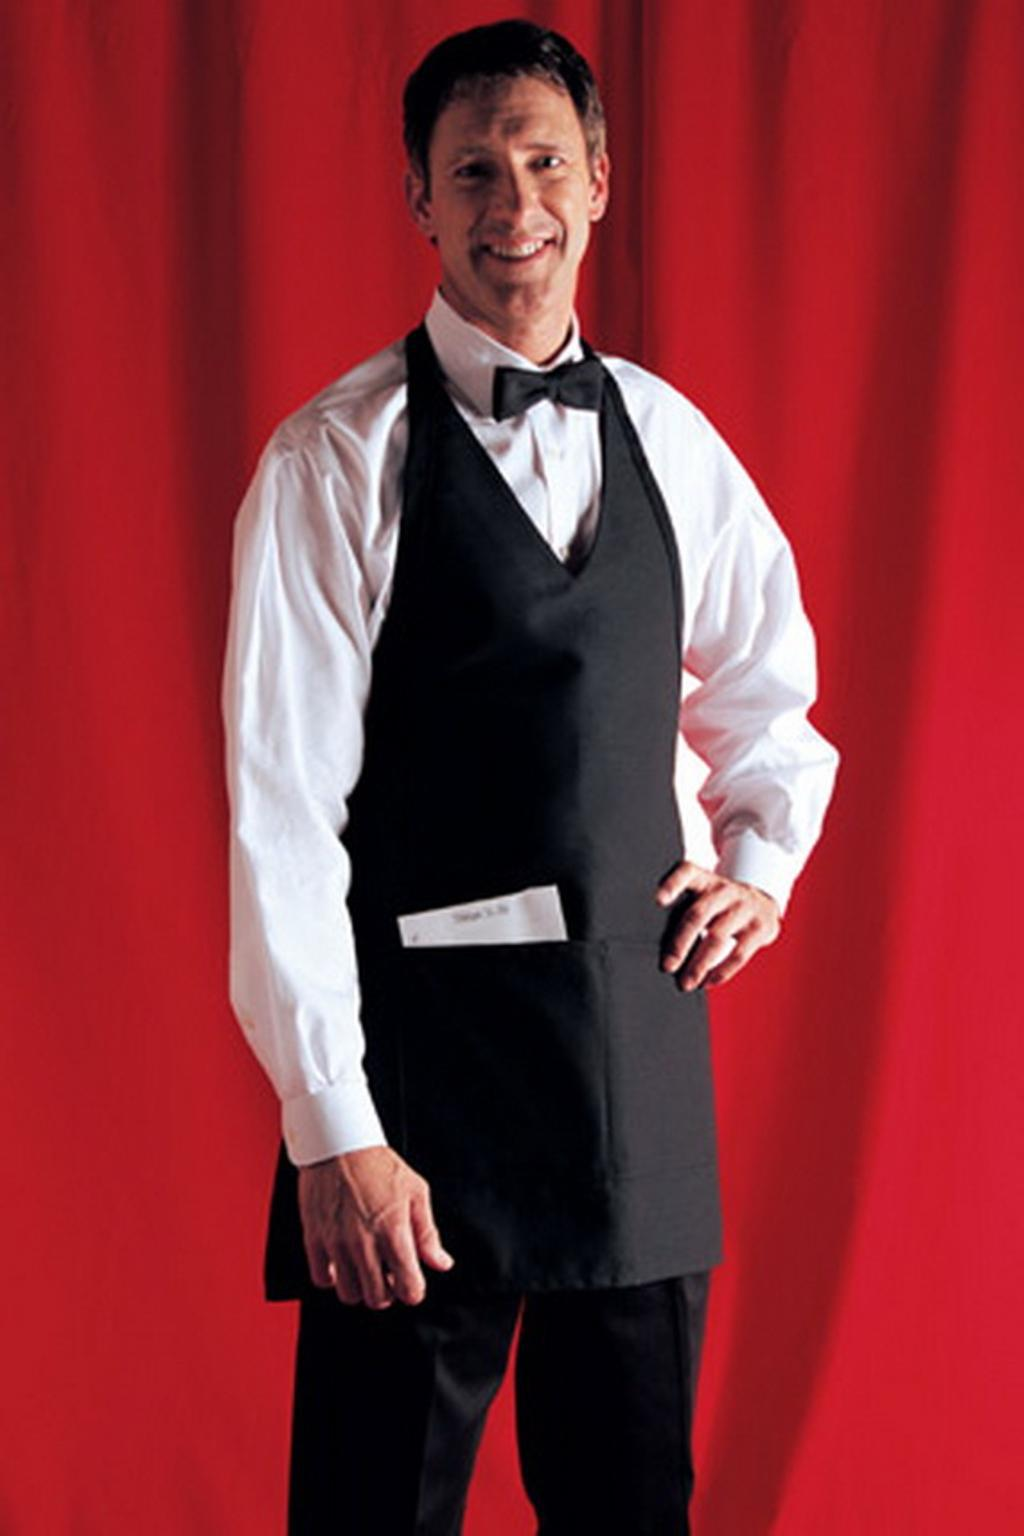face: (421, 58, 589, 325)
